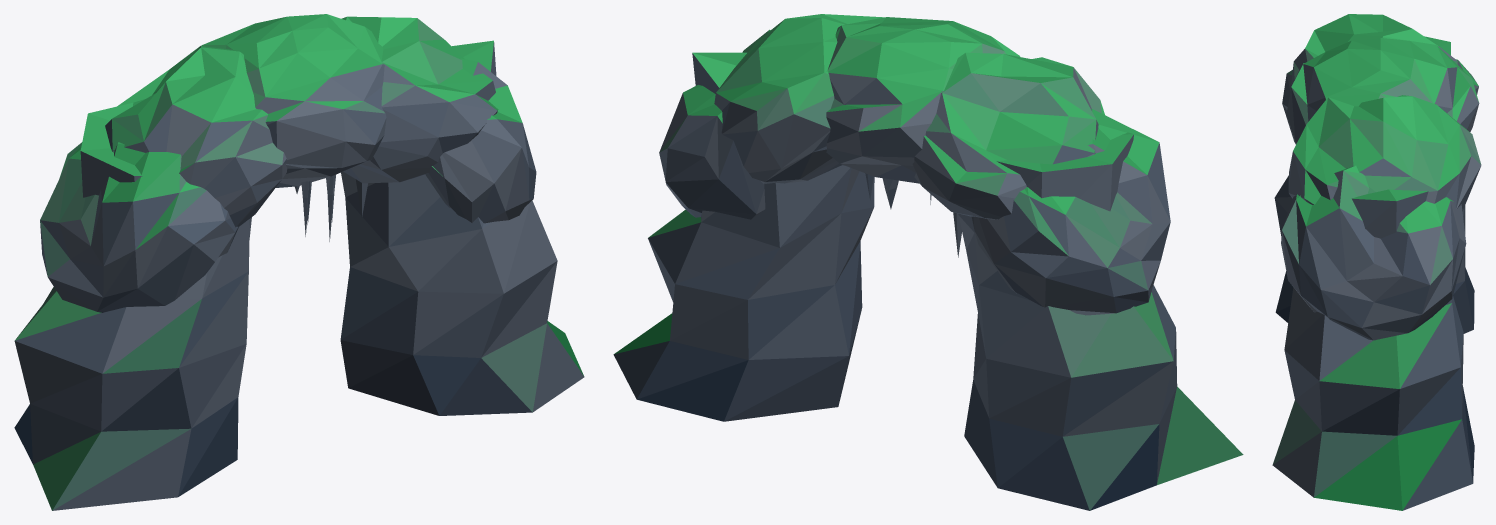
Rendered from batu_arch_granite_229941.glb.
The picture shows the model from 3 angles, left to right: view 1: azimuth 30°, elevation 25°; view 2: azimuth 150°, elevation 25°; view 3: azimuth 270°, elevation 25°; orthographic projection. The views are drawn at different scales.
Visible parts, largest first — view 1: Lengkungan_Gua_Batu; view 2: Lengkungan_Gua_Batu; view 3: Lengkungan_Gua_Batu.
Boxes of the visible parts, x1,y1,x2,y2 form: Lengkungan_Gua_Batu: (14, 14, 584, 510); Lengkungan_Gua_Batu: (613, 14, 1243, 510); Lengkungan_Gua_Batu: (1272, 14, 1481, 510).
Bounding box in the file's own units: 10.97 × 7.04 × 3.95.
